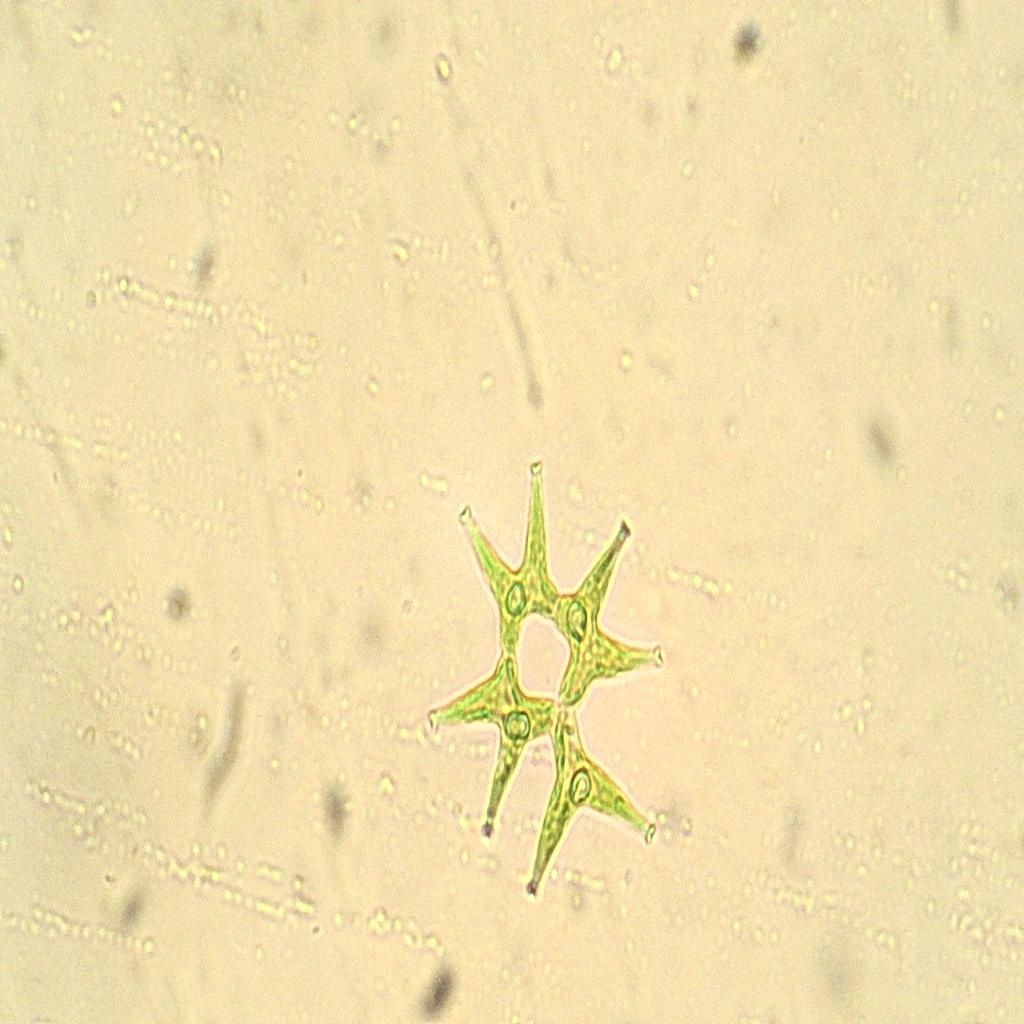Pediastrum_75FI: (413, 434, 679, 927)
